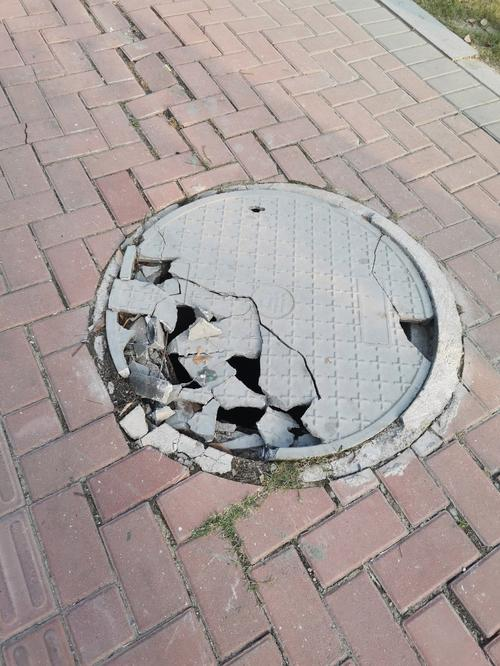broke: (62, 161, 484, 504)
